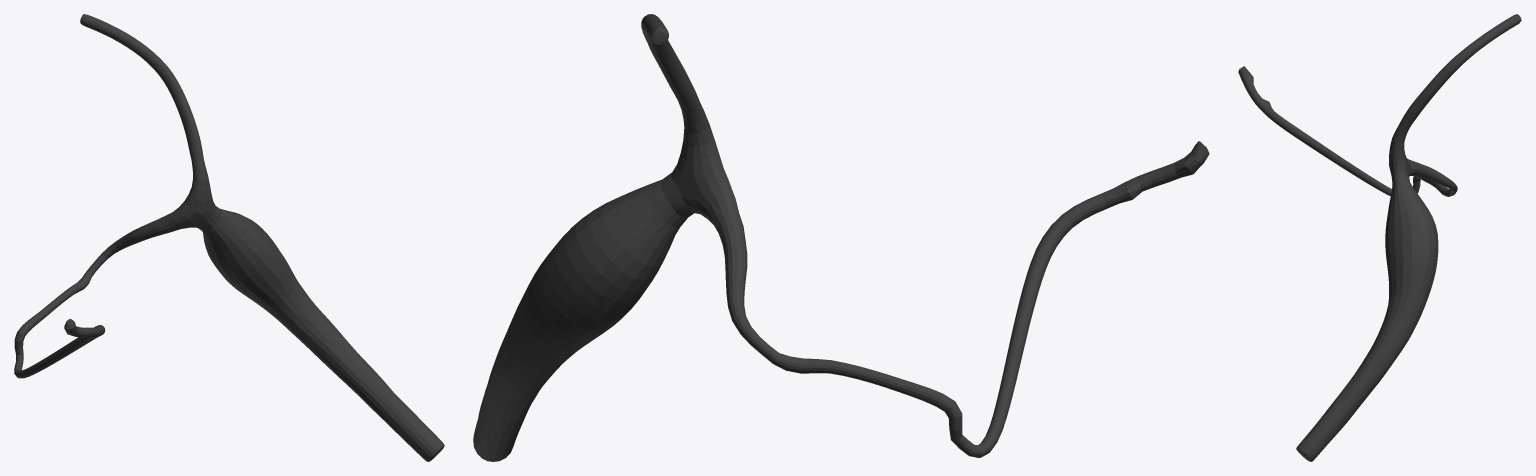
Rendered from NERVE_IX_L.glb.
The picture shows the model from 3 angles, left to right: view 1: azimuth 30°, elevation 25°; view 2: azimuth 150°, elevation 25°; view 3: azimuth 270°, elevation 25°; orthographic projection. The views are drawn at different scales.
Visible parts, largest first — view 1: NERVE_IX_L; view 2: NERVE_IX_L; view 3: NERVE_IX_L.
Part boxes in pixels (box(x1,y1,x2,y2)): NERVE_IX_L: box(14, 14, 444, 461); NERVE_IX_L: box(473, 14, 1209, 461); NERVE_IX_L: box(1238, 14, 1521, 461).
Bounding box in the file's own units: 4.69 × 4.44 × 3.24.
Materials: 1 (1 with a texture image).
